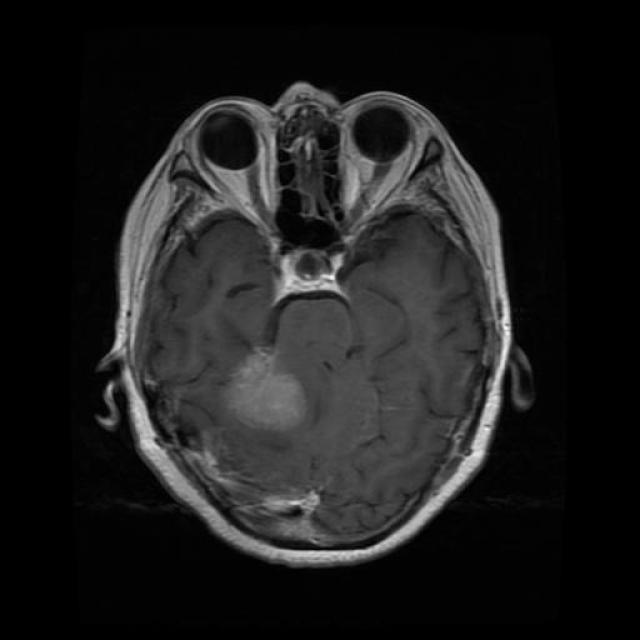meningioma: (225, 350, 305, 431)
